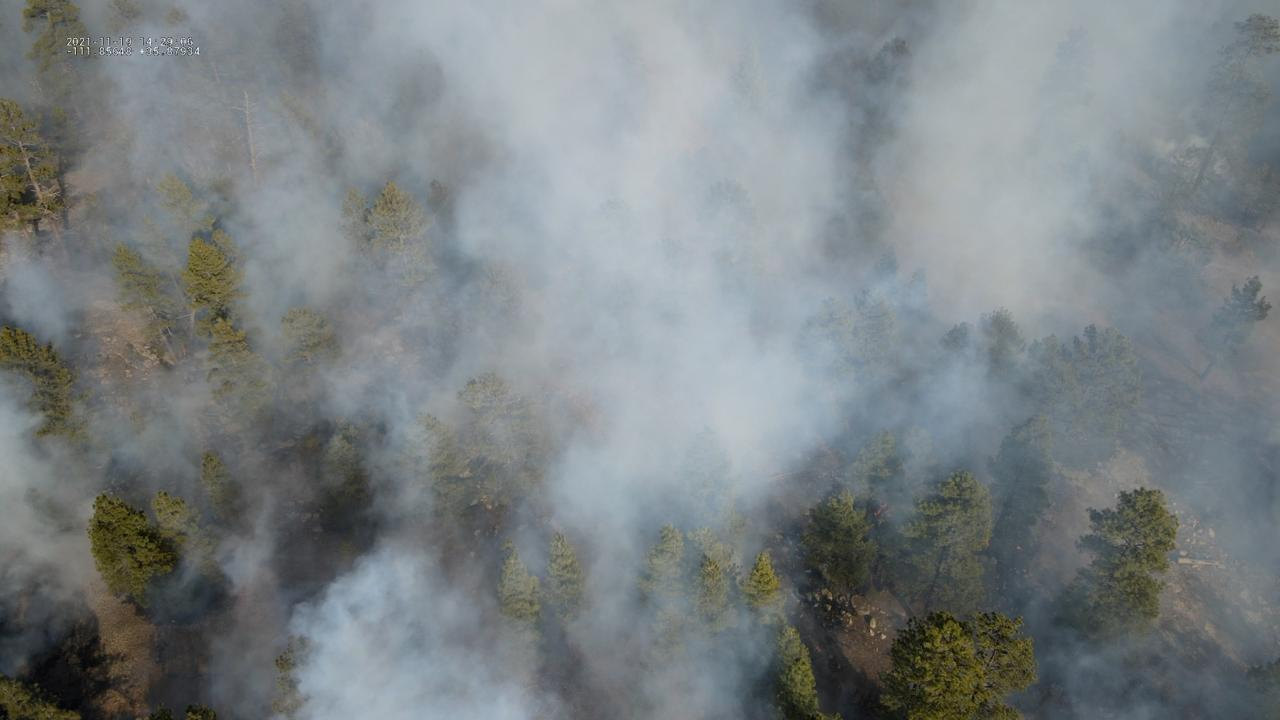fire: (873, 502, 887, 518)
smoke: (0, 0, 1280, 720)
